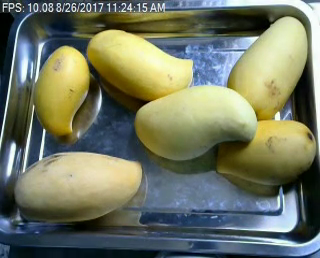Mango: (11, 150, 142, 222), (132, 86, 258, 159), (226, 16, 308, 121), (86, 28, 193, 98), (216, 120, 318, 185), (32, 45, 88, 135)
